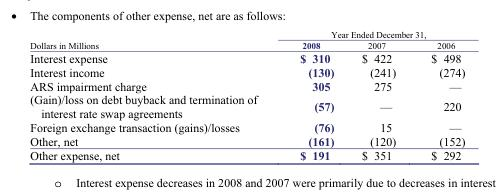table: (29, 28, 464, 161)
table column: (29, 28, 277, 161), (277, 28, 347, 161), (347, 28, 412, 161), (412, 28, 464, 161)
table column header: (29, 28, 464, 50)
table row: (29, 92, 464, 120), (29, 133, 464, 148), (29, 50, 464, 64), (29, 64, 464, 78), (29, 78, 464, 92), (29, 120, 464, 133), (29, 148, 464, 161), (29, 28, 464, 39), (29, 39, 464, 50)
table spanning cell: (29, 28, 277, 50), (277, 28, 464, 39)
